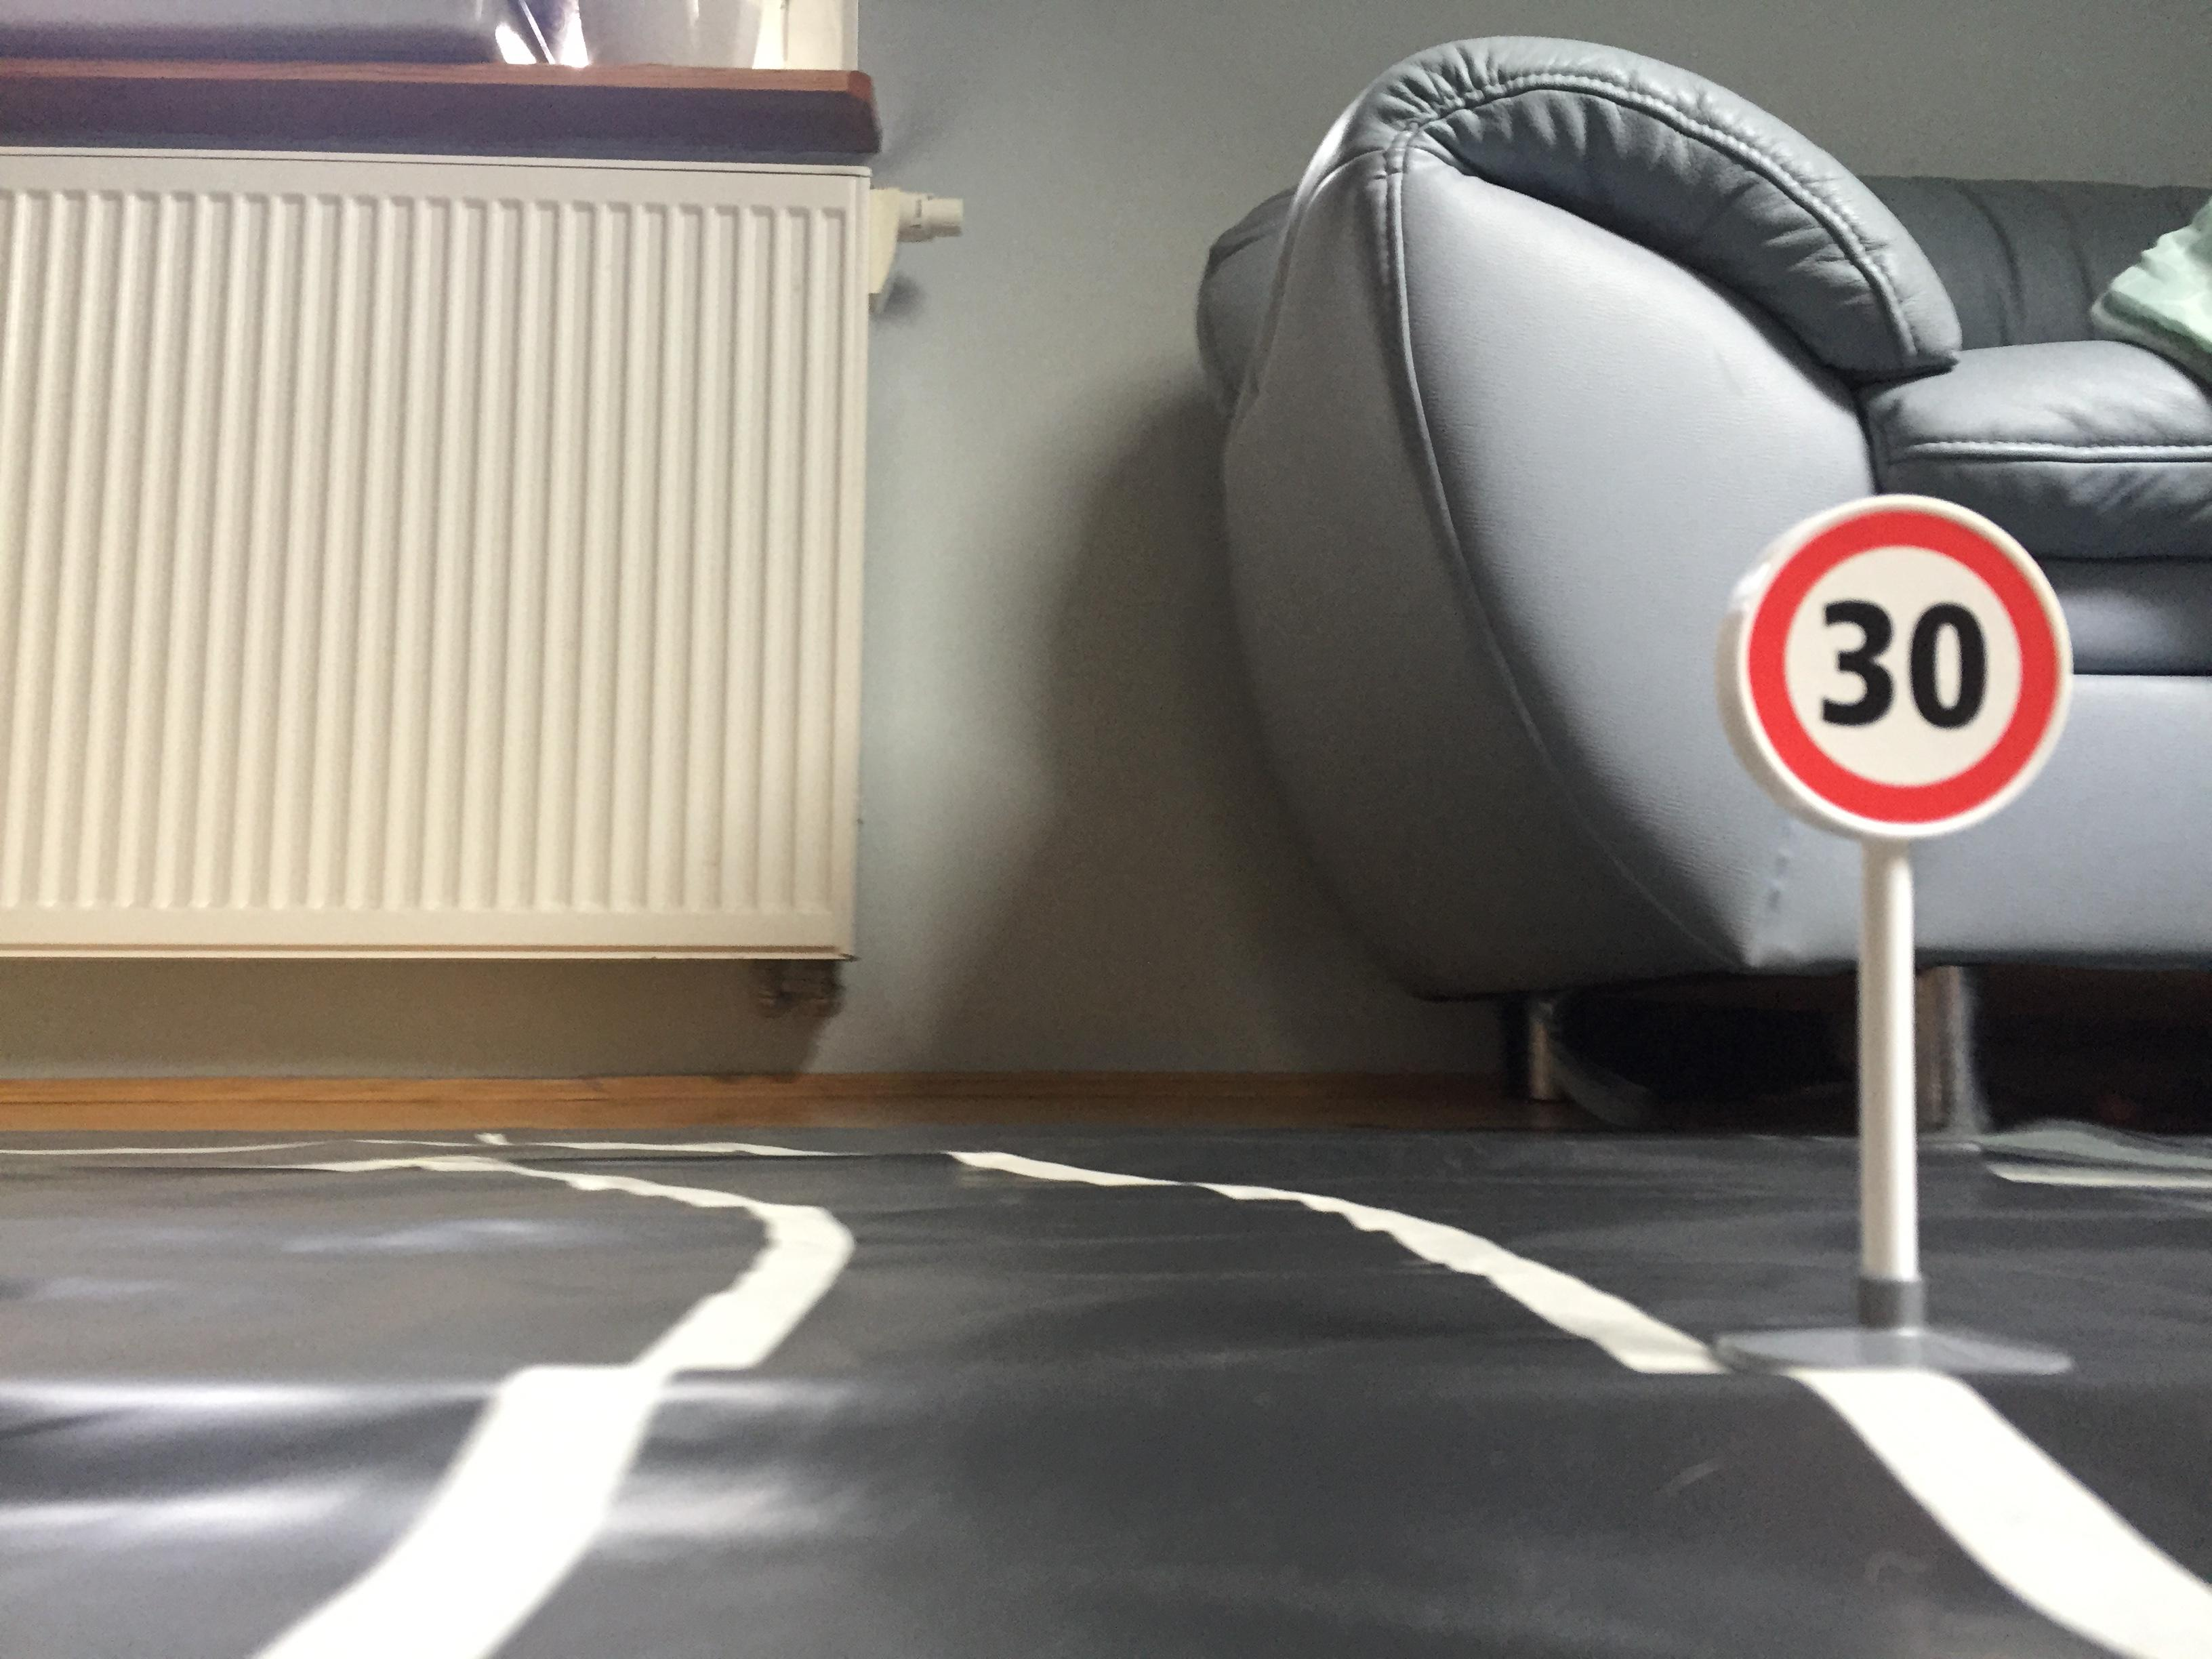speed: (1700, 488, 2087, 861)
